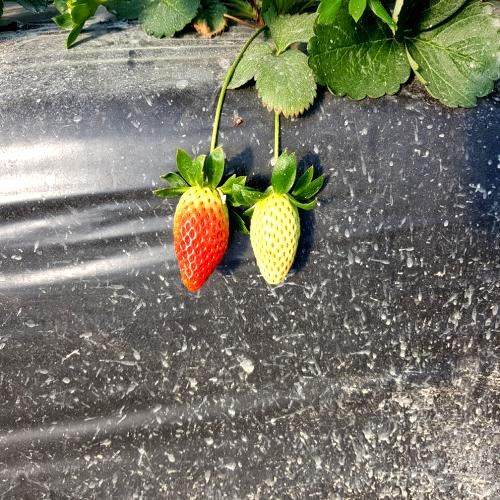ripe: (174, 168, 228, 296)
